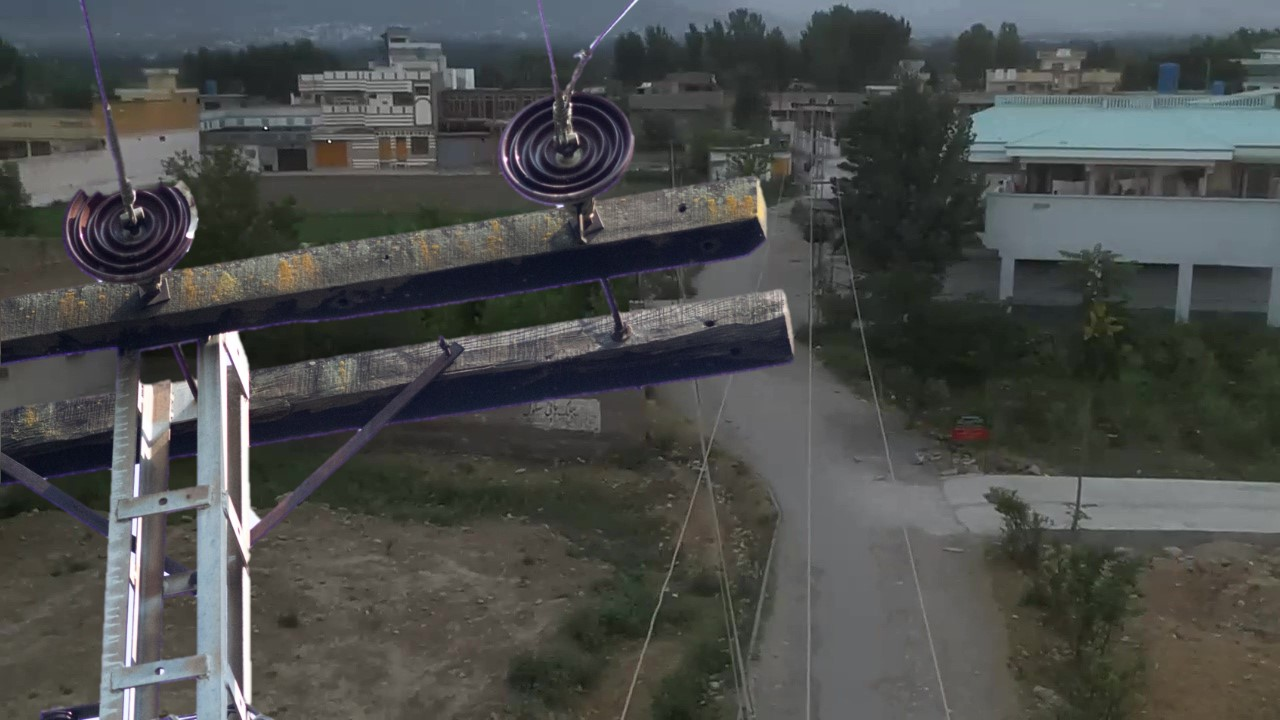defect_disc: (59, 173, 212, 281)
insulator_disc: (494, 91, 643, 204)
